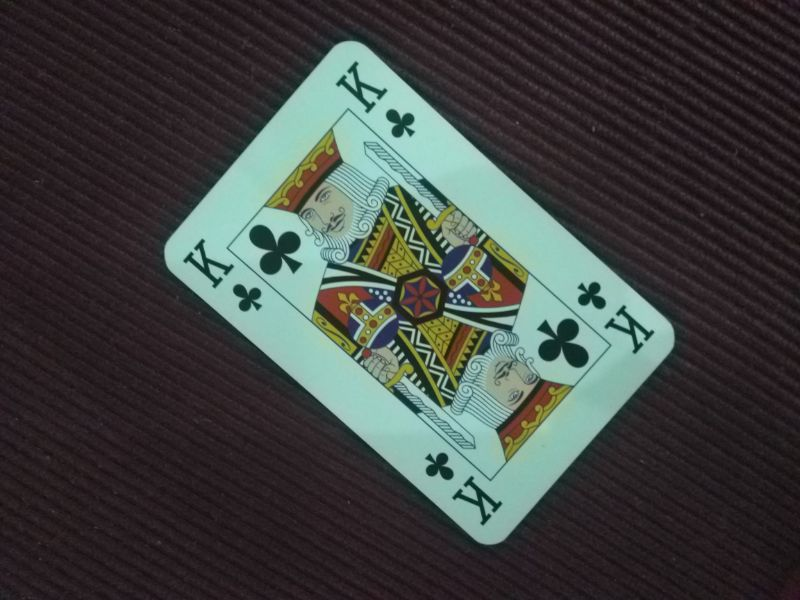Kc: (333, 58, 421, 142), (421, 443, 505, 529), (181, 236, 267, 318), (572, 276, 657, 356)
